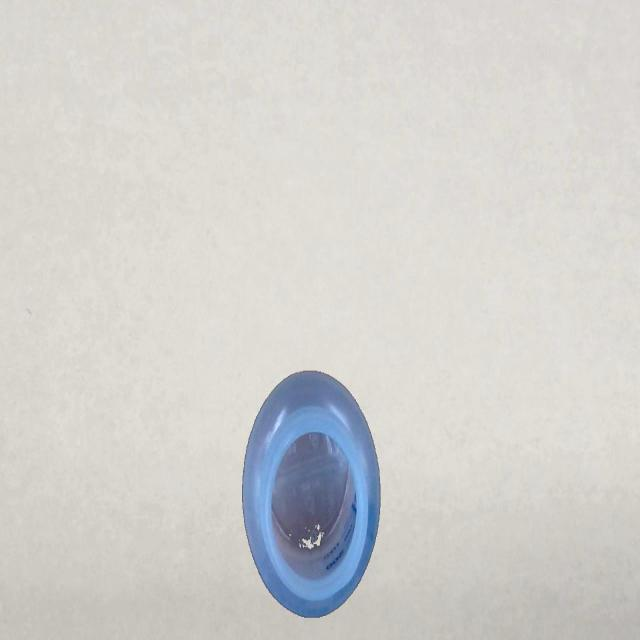bottle: (244, 362, 382, 622)
